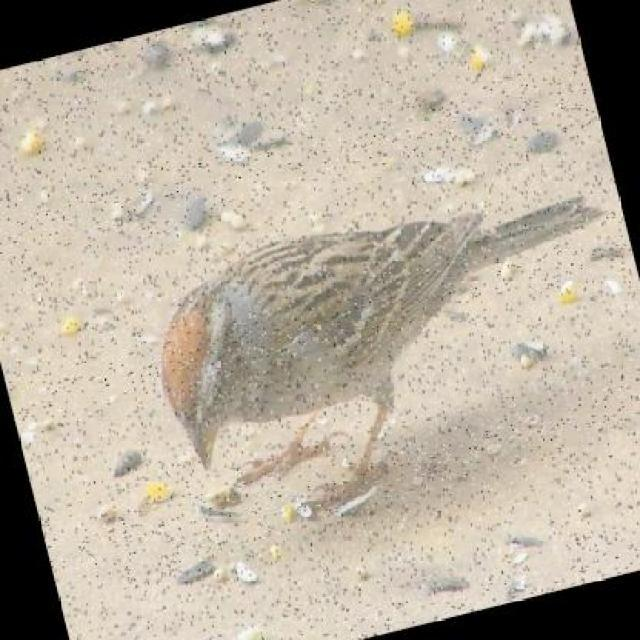Bird: (157, 192, 609, 491)
